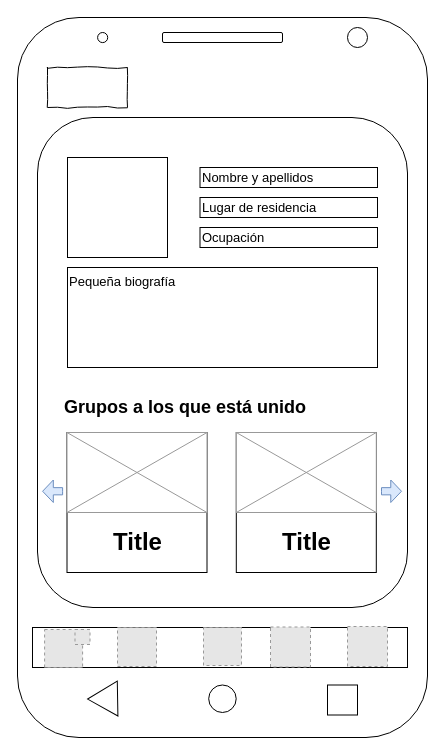
The diagram is 445 pixels wide and 755 high, and some of its shapes have lost their labels. Grey dashed boxes stand in for pictures. The centre of each missing label's shape, as x and y in pixels:
"FOTO DE PERFIL" goes at pixel 117 207.
"LOGO" goes at pixel 87 87.
